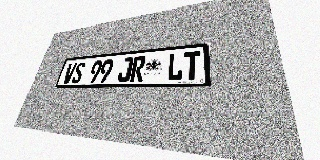9: (98, 59, 114, 83), (87, 60, 103, 83)
J: (117, 57, 134, 82)
L: (166, 52, 184, 81)
R: (129, 56, 146, 82)
S: (71, 62, 86, 83)
T: (183, 51, 200, 80)
V: (62, 63, 77, 83)
